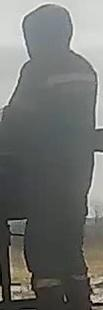vest: (22, 64, 97, 192)
